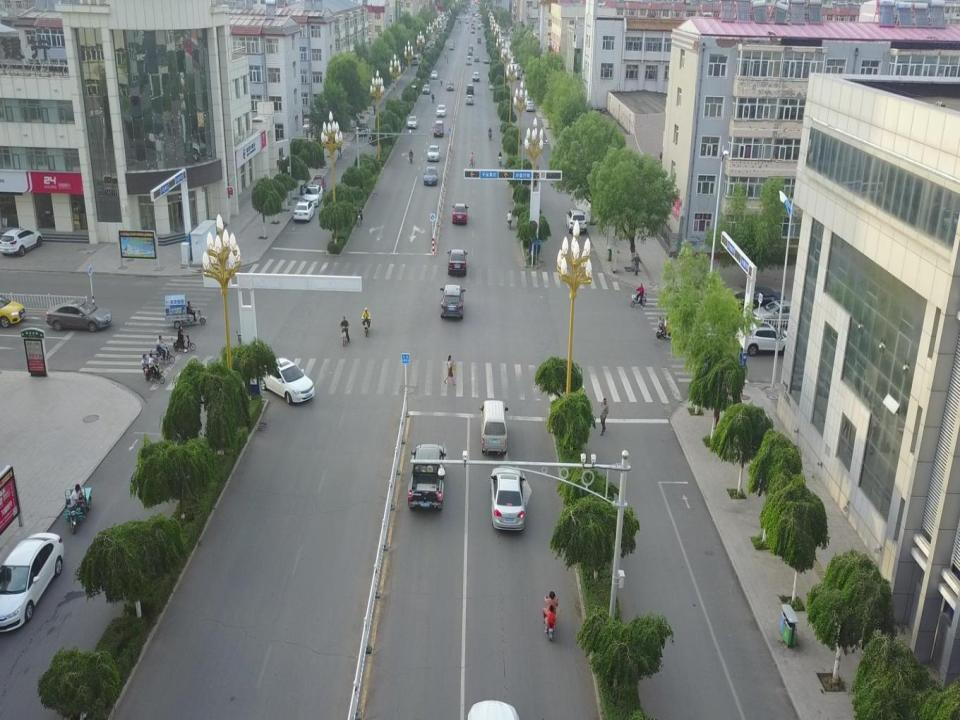car: (0, 532, 64, 632), (259, 356, 314, 406), (489, 466, 525, 531), (45, 300, 112, 332), (736, 321, 794, 356), (733, 286, 785, 314), (752, 300, 798, 327), (0, 228, 42, 255), (440, 283, 465, 319), (447, 248, 468, 276), (566, 209, 587, 233), (302, 185, 323, 207), (293, 202, 315, 222), (452, 202, 468, 225), (512, 56, 524, 82), (310, 174, 326, 192), (426, 145, 440, 162), (298, 116, 311, 134), (424, 166, 437, 184), (433, 120, 444, 138), (356, 121, 369, 136), (406, 115, 418, 128), (336, 145, 344, 162), (436, 105, 447, 116), (421, 84, 430, 94), (472, 71, 480, 82), (466, 94, 474, 105), (430, 70, 438, 80), (466, 84, 474, 93), (446, 81, 454, 90), (483, 56, 490, 63), (449, 43, 455, 50), (468, 43, 474, 50), (468, 49, 473, 55), (474, 55, 479, 61), (416, 53, 420, 59)
truck: (408, 442, 445, 510)
van: (479, 399, 509, 454), (524, 96, 534, 111), (488, 81, 496, 90), (411, 54, 418, 64), (466, 55, 472, 65), (478, 36, 482, 43)
